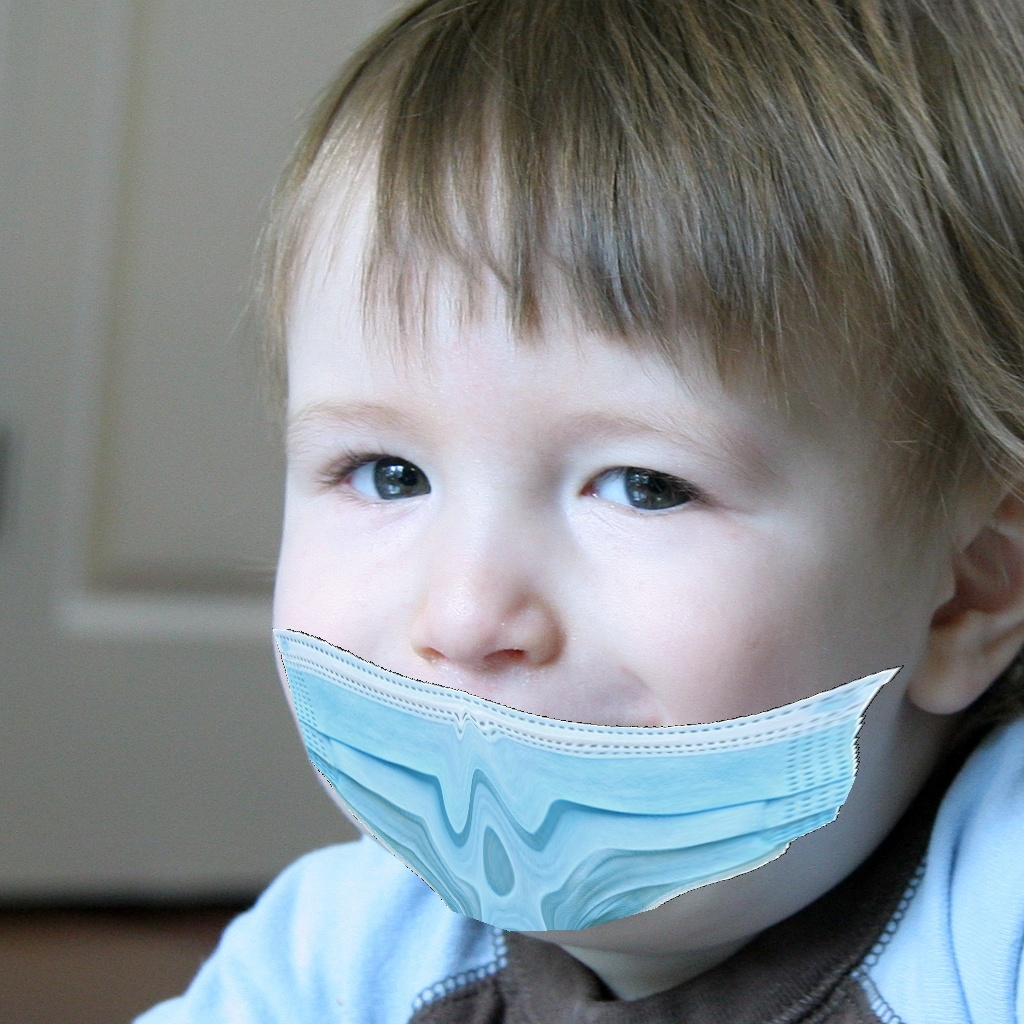mask_weared_incorrect: (248, 367, 935, 941)
